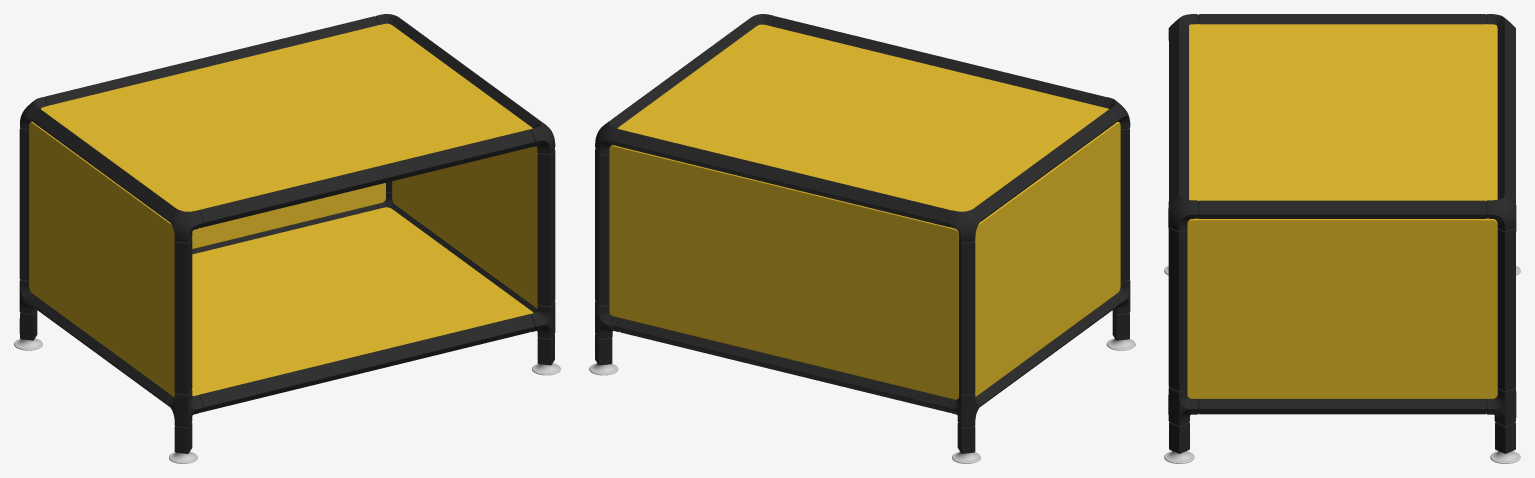
3 views of the same model, side by side, from view 1: azimuth 30°, elevation 25°; view 2: azimuth 150°, elevation 25°; view 3: azimuth 270°, elevation 25° (orthographic). The views are drawn at different scales.
Parts seen in each view (by area): view 1: 523x374x229; view 2: 523x374x229; view 3: 523x374x229.
Part boxes in pixels (bbox=[...]): 523x374x229: bbox=[14, 14, 560, 463]; 523x374x229: bbox=[589, 14, 1135, 463]; 523x374x229: bbox=[1164, 14, 1520, 463].
Bounding box in the file's own units: 0.6129 × 0.3683 × 0.4632.
